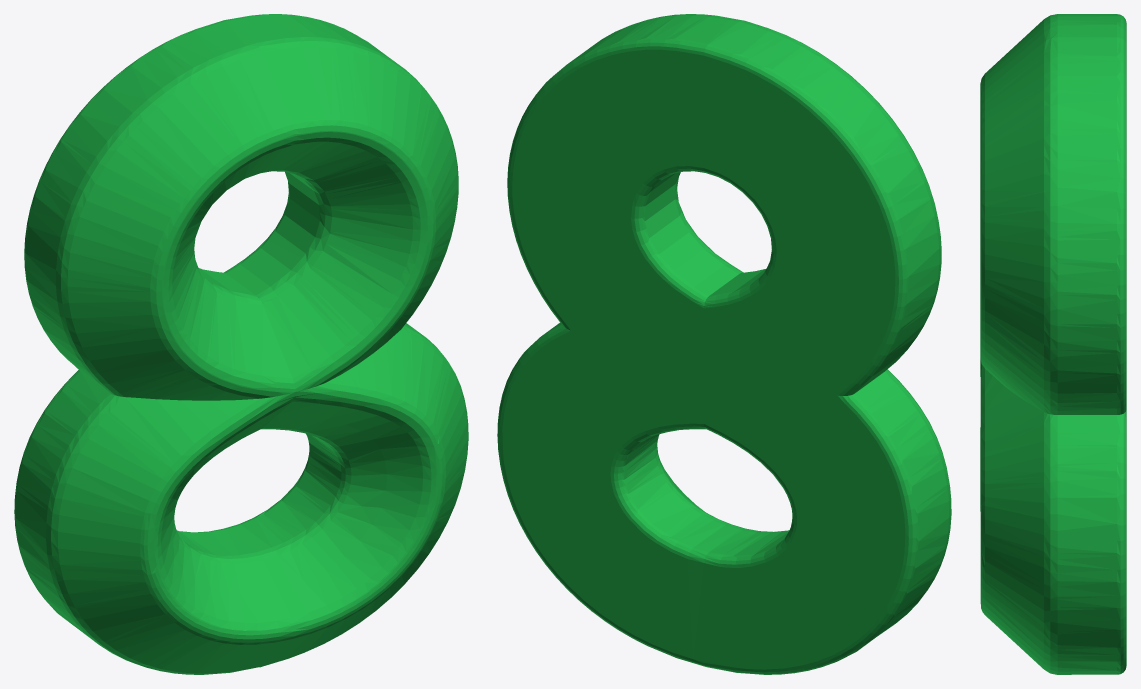
File: eight.obj
3 renders of one model, left to right at view 1: azimuth 30°, elevation 25°; view 2: azimuth 150°, elevation 25°; view 3: azimuth 270°, elevation 25°, orthographic. The views are drawn at different scales.
Visible parts, largest first — view 1: Object.1; view 2: Object.1; view 3: Object.1.
Boxes of the visible parts, x1=… form: Object.1: x1=14, y1=14, x2=468, y2=674; Object.1: x1=497, y1=14, x2=951, y2=674; Object.1: x1=980, y1=14, x2=1126, y2=674.
Size of the model in its own units: 17.3 by 24.5 by 5.32.
